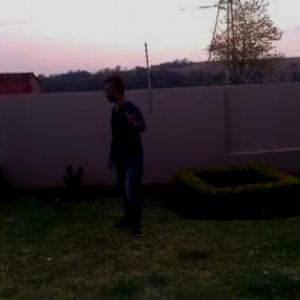takeoff-hand: (120, 106, 146, 134)
